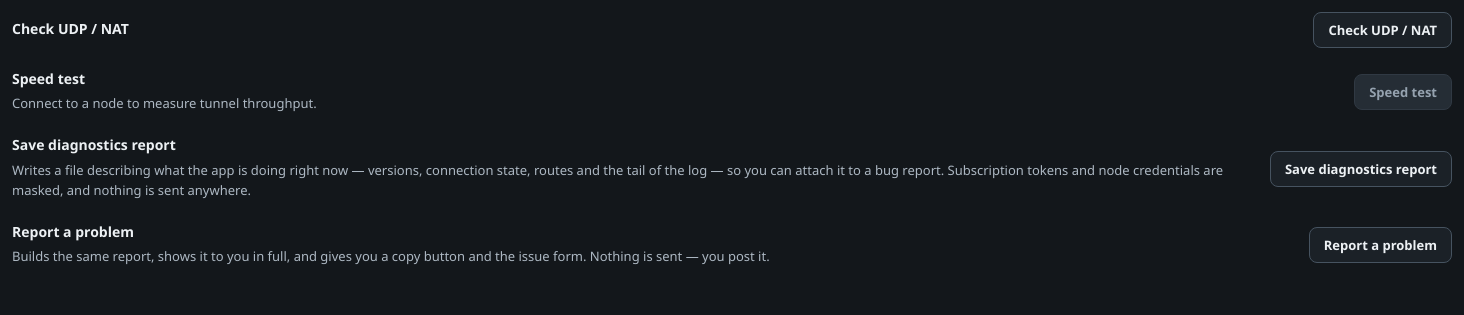
Test: DiagnosticsPanel › support bundle › surfaces a write failure as an alert
Click the button "Save diagnostics report" at {"x": 1361, "y": 169}, box [1270, 151, 1452, 187]
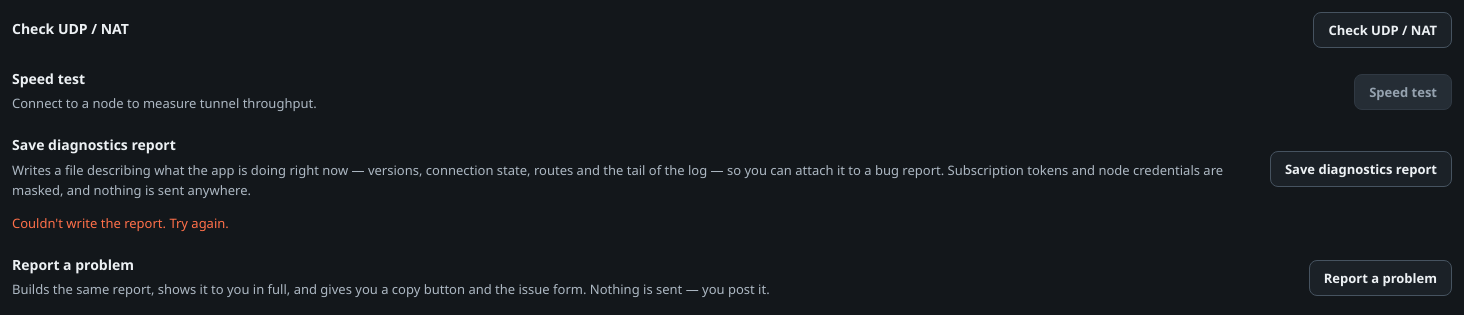
Result: the message shows "Couldn't write the report" at [12, 214, 229, 232]
